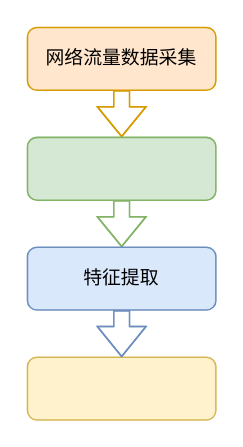
This 243x447 diagram has some shape labels left out. Here are the shapes that lost their labels. From the top down, the centre of each, then its label:
At point (121, 168): "数据预处理".
At point (121, 388): "数据分析".
